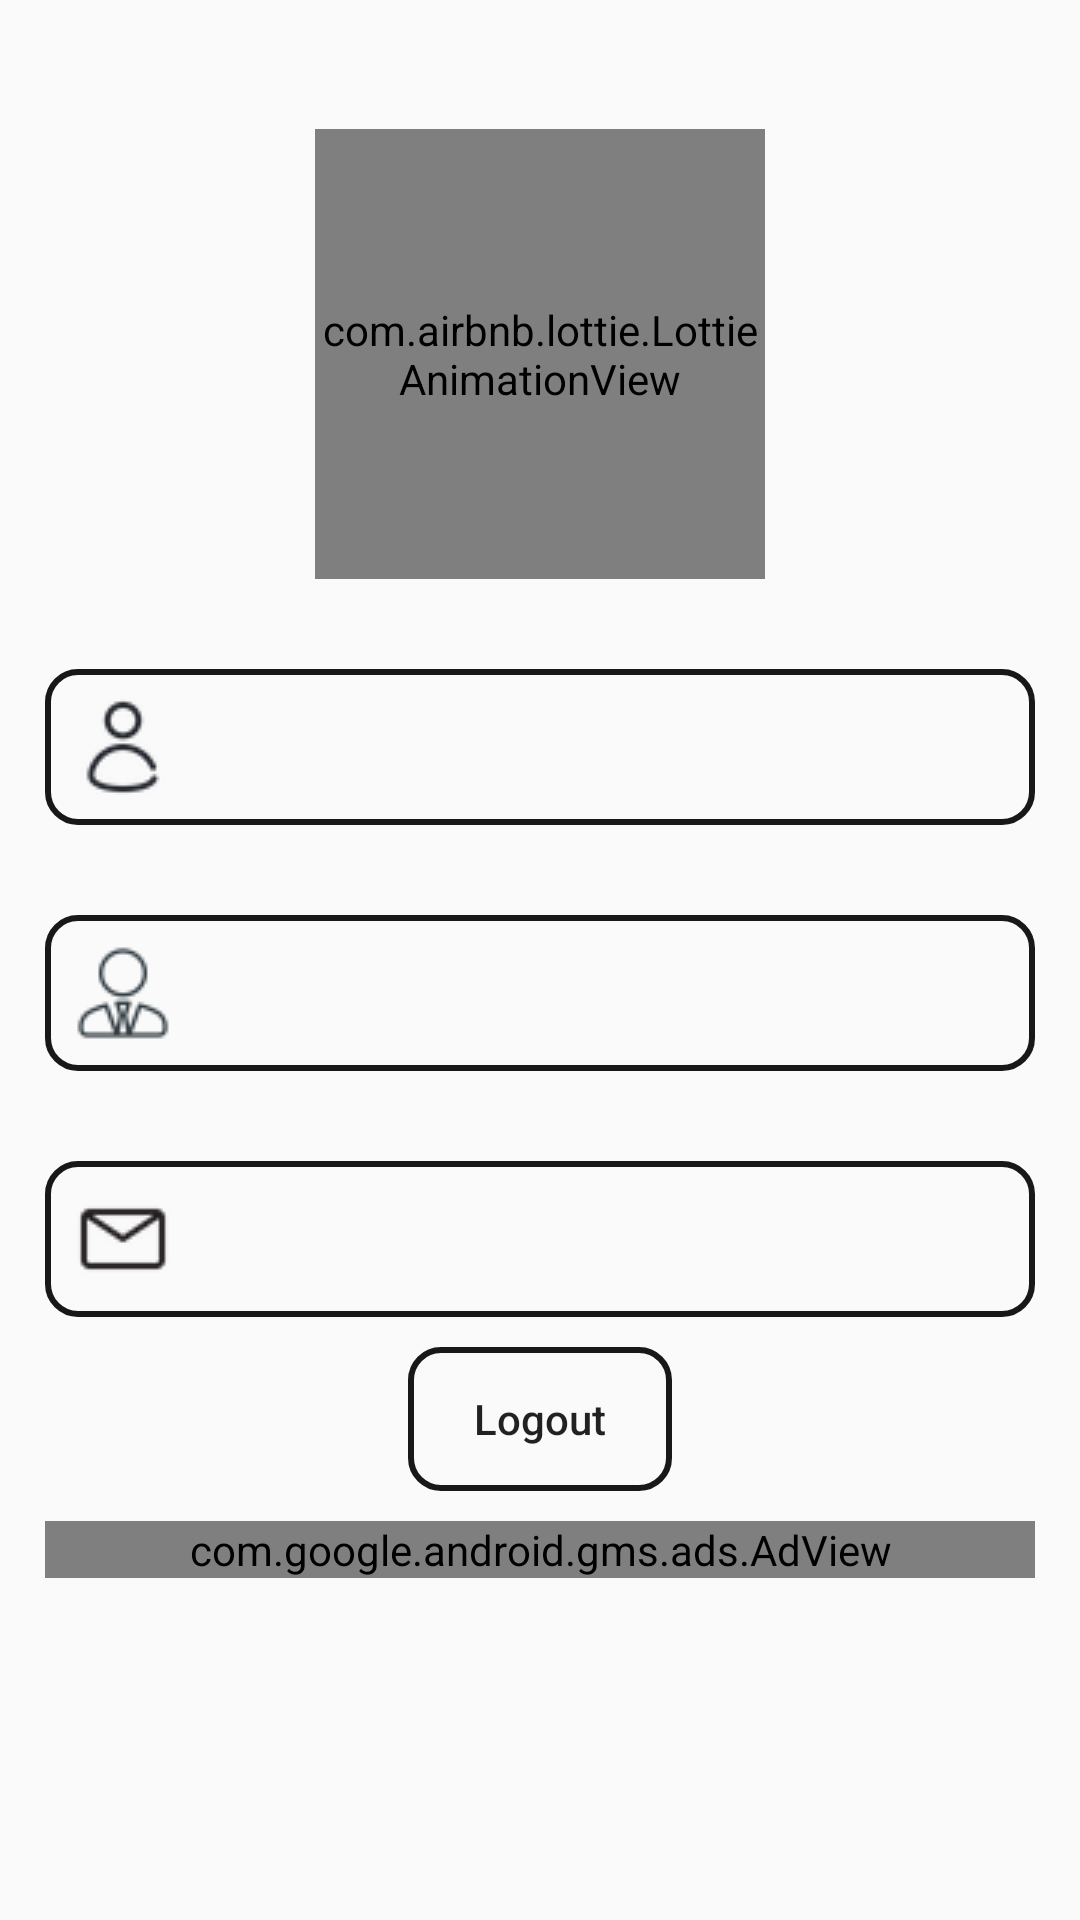

Locate icon controls on the screen. Image size 1080 × 1920, boxes as [left=x1, top=y1, right=x2, bottom=y2].
mail: [left=80, top=1208, right=166, bottom=1270]
people: [left=86, top=701, right=160, bottom=793]
profession: [left=77, top=947, right=169, bottom=1039]
